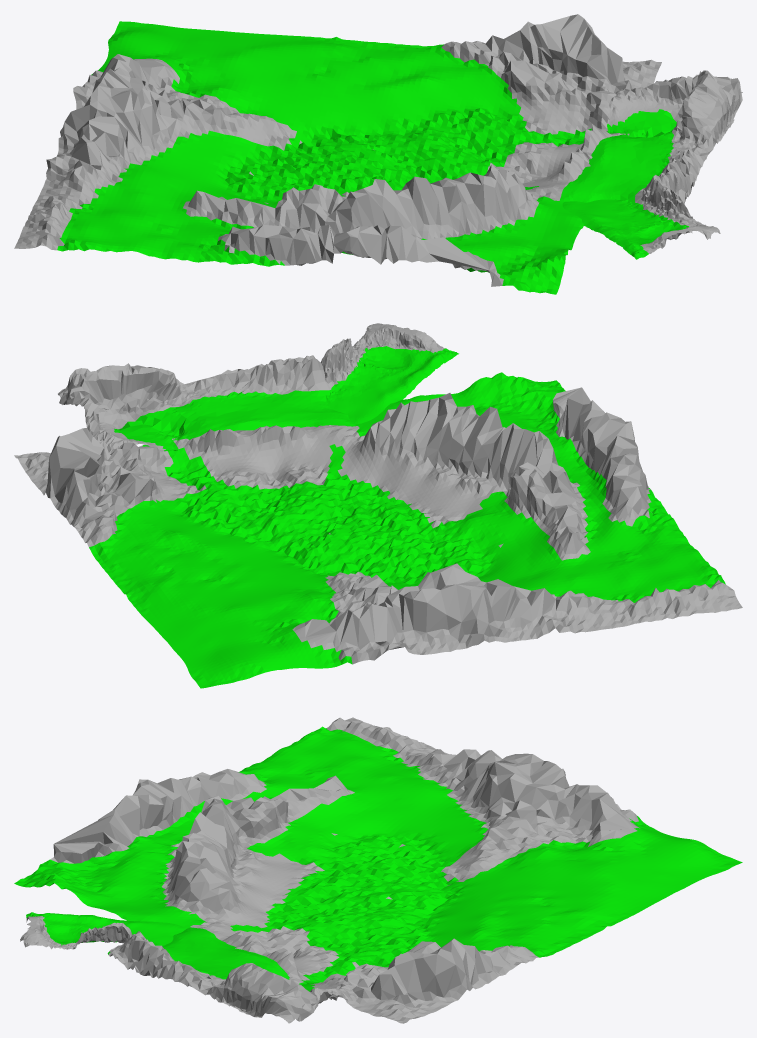
Rendered from final terrain2.fbx.
The picture shows the model from 3 angles, top to bottom: view 1: azimuth 30°, elevation 25°; view 2: azimuth 150°, elevation 25°; view 3: azimuth 270°, elevation 25°; orthographic projection. The views are drawn at different scales.
Visible parts, largest first — view 1: pPlane7, pPlane4, pPlane6; view 2: pPlane7, pPlane4, pPlane6; view 3: pPlane7, pPlane4, pPlane6.
Part boxes in pixels (x1=…): pPlane7: x1=14, y1=14, x2=661, y2=294; pPlane4: x1=560, y1=70, x2=742, y2=203; pPlane6: x1=562, y1=178, x2=720, y2=259; pPlane7: x1=14, y1=372, x2=742, y2=688; pPlane4: x1=58, y1=355, x2=355, y2=452; pPlane6: x1=321, y1=323, x2=458, y2=423; pPlane7: x1=14, y1=717, x2=742, y2=1023; pPlane4: x1=107, y1=927, x2=357, y2=1023; pPlane6: x1=20, y1=912, x2=186, y2=949.
Bounding box in the file's own units: 985 × 102 × 957.
